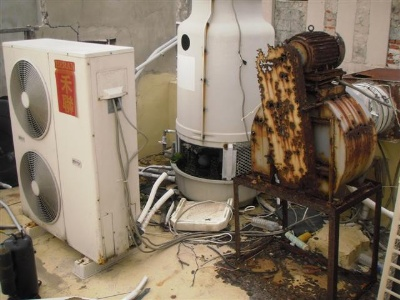water_tower: (171, 1, 277, 204)
